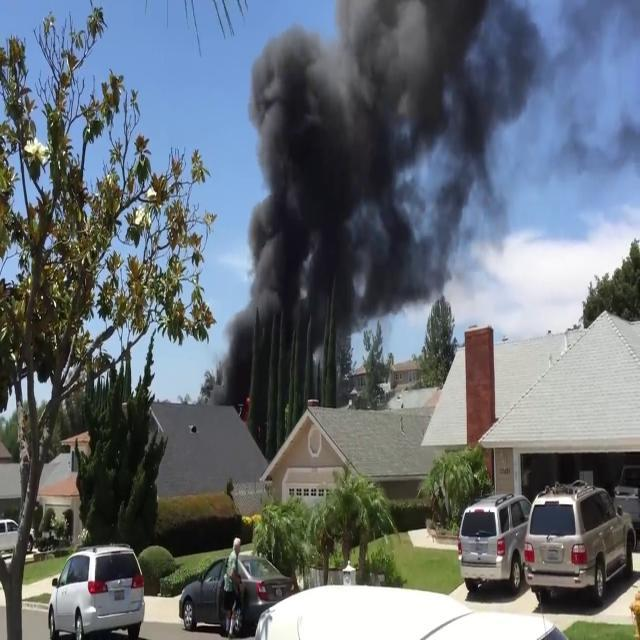Smoke: (232, 0, 538, 352), (513, 0, 640, 290)
